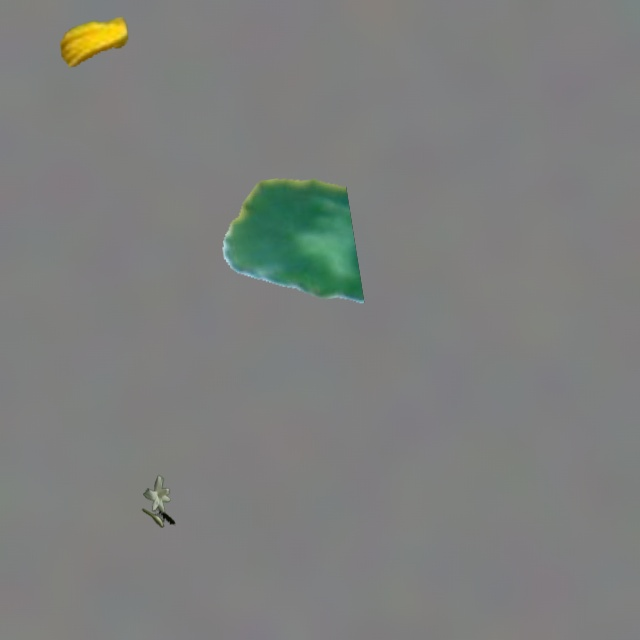cyclamen: (223, 178, 363, 302)
jasmine: (142, 476, 174, 527)
sunflower: (60, 17, 127, 66)
